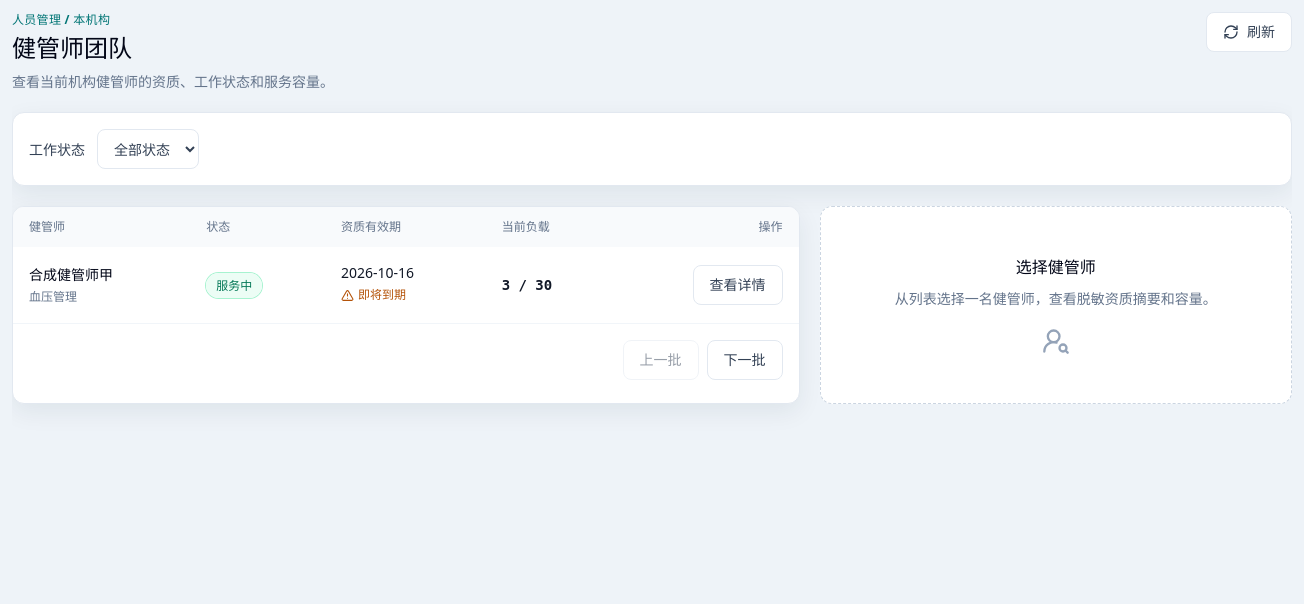
Scenario: 健管师邀请与资格 › 健管师列表展示资质风险负载并按当前tenant读取详情
The image size is (1304, 604).
Expected: the heading "健管师团队" is shown, [12,31,132,64]
Expected: the text "合成健管师甲" is shown, [29,265,113,284]
Click the button with aria-label "查看合成健管师甲详情": (738, 285) [692,265,782,305]
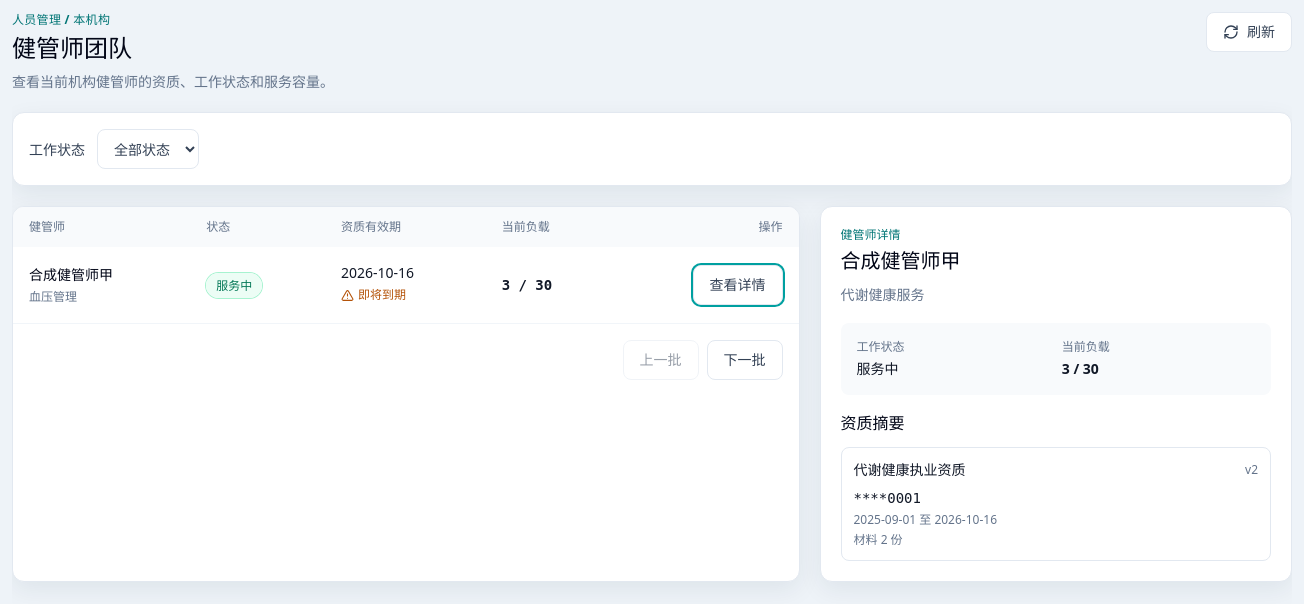
Now the text "****0001" is shown, box [854,490,921,506]
Now the text "材料 2 份" is shown, box [854,531,903,548]
